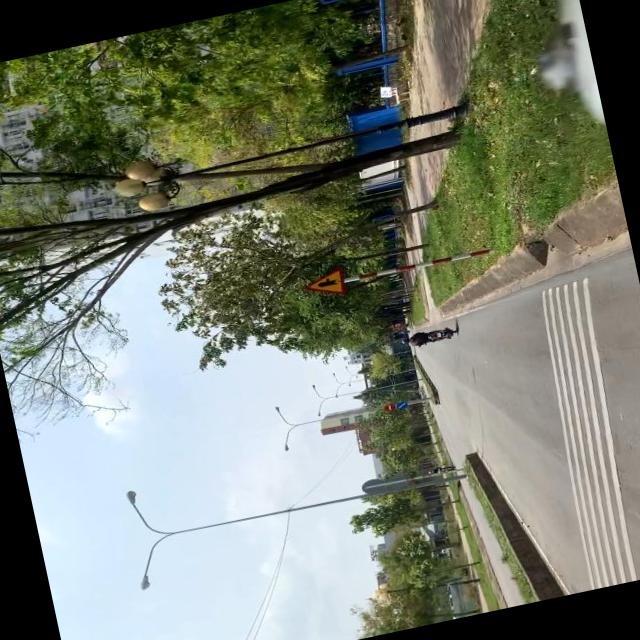W-207b: (304, 268, 346, 300)
